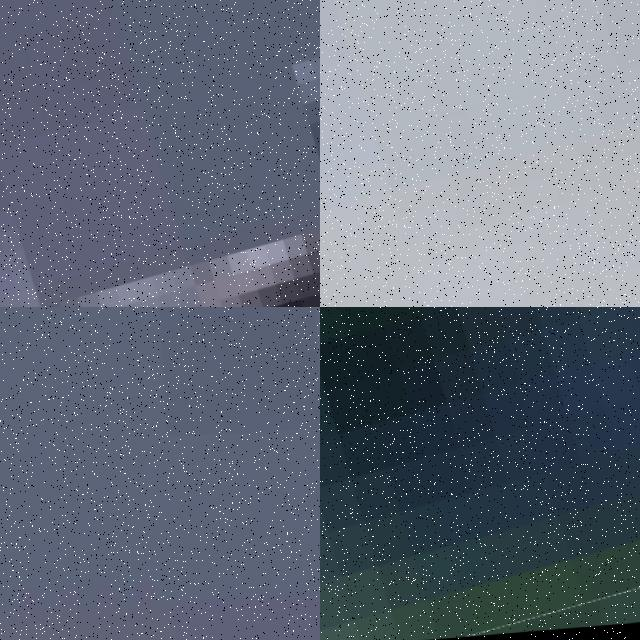0: (0, 0, 320, 307)
drone: (320, 307, 640, 640), (320, 0, 640, 307)
